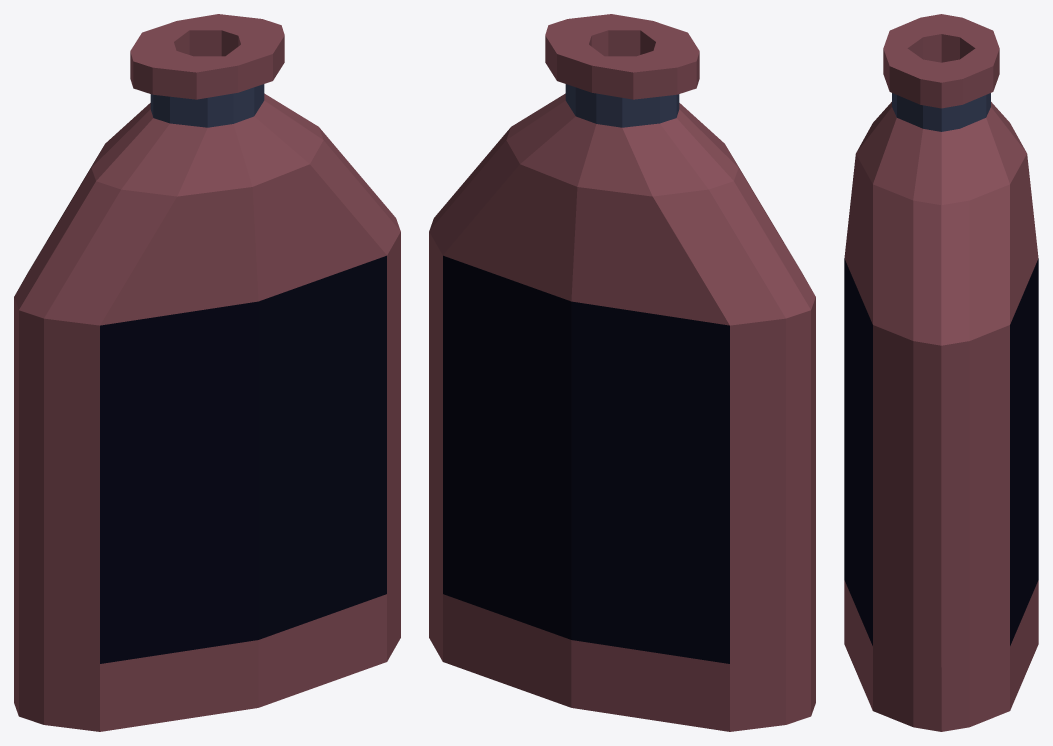
The model's file is Food_Bottle03.fbx.
3 renders of one model, left to right at view 1: azimuth 30°, elevation 25°; view 2: azimuth 150°, elevation 25°; view 3: azimuth 270°, elevation 25°, orthographic. The views are drawn at different scales.
Parts seen in each view (by area): view 1: Cylinder.030; view 2: Cylinder.030; view 3: Cylinder.030.
Part boxes in pixels (bbox=[...]): Cylinder.030: bbox=[14, 14, 400, 731]; Cylinder.030: bbox=[429, 14, 815, 731]; Cylinder.030: bbox=[844, 14, 1038, 731].
Bounding box in the file's own units: 26.39 × 41.92 × 12.37.
